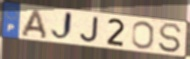2: (106, 18, 126, 48)
A: (19, 8, 49, 40)
J: (50, 10, 74, 43), (79, 16, 101, 44)
O: (131, 20, 155, 50)
S: (157, 22, 183, 54)
